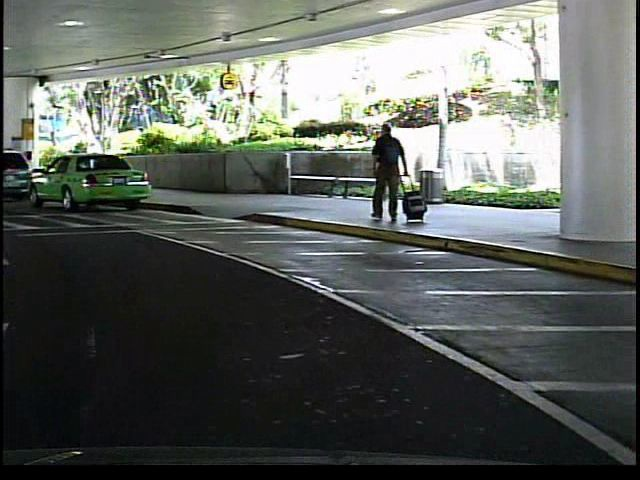person: (365, 115, 411, 231)
